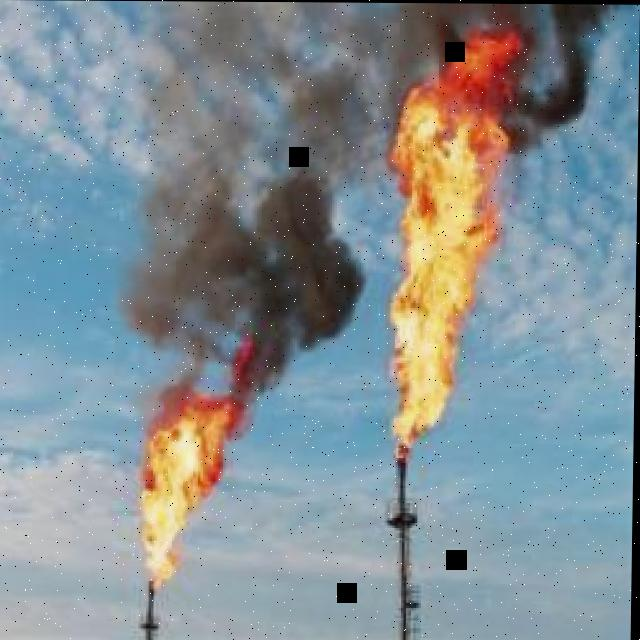fire: (387, 28, 527, 452), (140, 334, 263, 589)
smoke: (120, 2, 610, 395), (146, 1, 392, 213)
